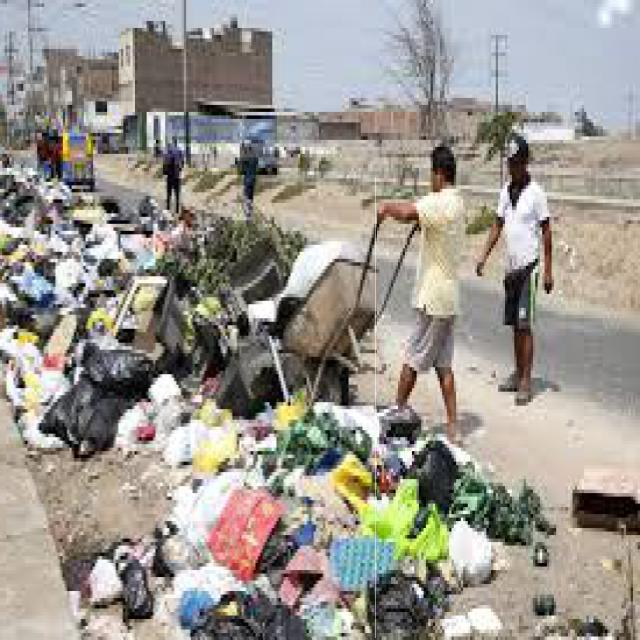Trashbag: (45, 379, 129, 460), (408, 444, 464, 508), (86, 347, 154, 396)
